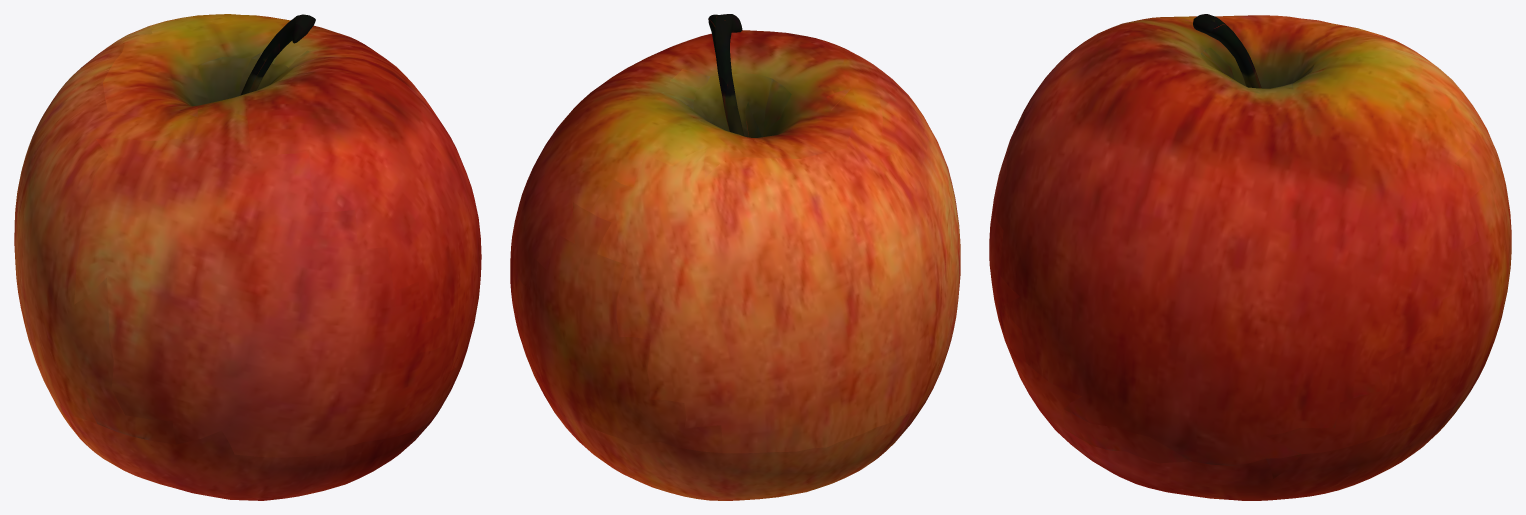
File: food_produce_apple_c01.glb
The picture shows the model from 3 angles, left to right: view 1: azimuth 30°, elevation 25°; view 2: azimuth 150°, elevation 25°; view 3: azimuth 270°, elevation 25°; orthographic projection. The views are drawn at different scales.
Parts seen in each view (by area): view 1: part0; view 2: part0; view 3: part0.
Boxes of the visible parts, x1=… form: part0: x1=14, y1=14, x2=481, y2=500; part0: x1=510, y1=14, x2=960, y2=500; part0: x1=989, y1=14, x2=1511, y2=500.
Size of the model in its own units: 0.0691 by 0.0723 by 0.0746.
1 material, 1 textured.
